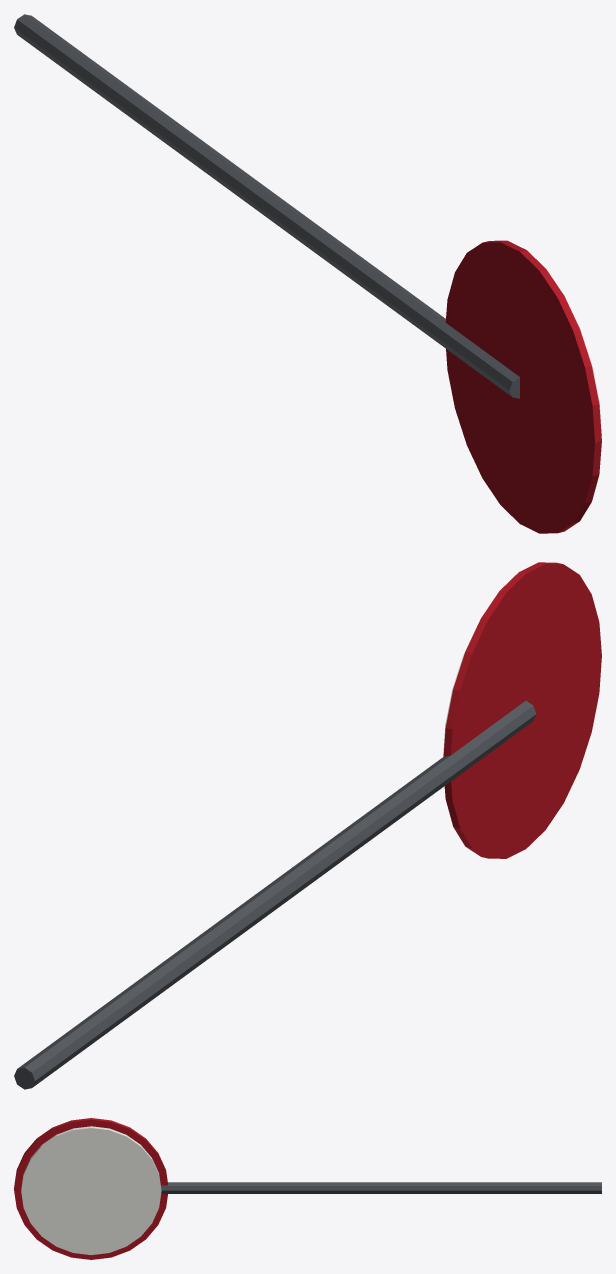
The model's file is sign_us_r5_1.obj.
3 views of the same model, one above another, from view 1: azimuth 30°, elevation 25°; view 2: azimuth 150°, elevation 25°; view 3: azimuth 270°, elevation 25° (orthographic). The views are drawn at different scales.
Parts seen in each view (by area): view 1: sign_us_r5_1_border, sign_us_r5_1_post; view 2: sign_us_r5_1_border, sign_us_r5_1_post; view 3: sign_us_r5_1_field, sign_us_r5_1_post, sign_us_r5_1_border.
Part boxes in pixels (x1,y1,x2,y2): sign_us_r5_1_border: (445,240,601,533); sign_us_r5_1_post: (14,14,519,398); sign_us_r5_1_border: (443,562,601,858); sign_us_r5_1_post: (14,700,536,1089); sign_us_r5_1_field: (21,1126,161,1255); sign_us_r5_1_post: (161,1182,601,1193); sign_us_r5_1_border: (14,1118,167,1259).
Size of the model in its own units: 0.07 by 0.75 by 2.85.
